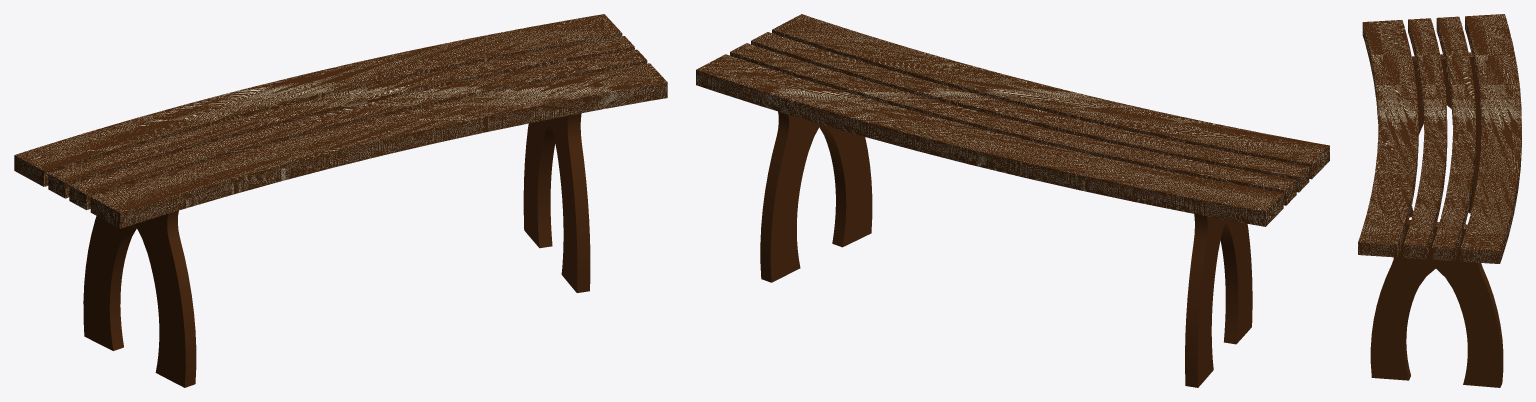
The picture shows the model from 3 angles, left to right: view 1: azimuth 30°, elevation 25°; view 2: azimuth 150°, elevation 25°; view 3: azimuth 270°, elevation 25°; orthographic projection. The views are drawn at different scales.
Visible parts, largest first — view 1: mesh3_mesh3-geometry, mesh2_mesh2-geometry, mesh5_mesh5-geometry, mesh4_mesh4-geometry, mesh1_mesh1-geometry, mesh6_mesh6-geometry; view 2: mesh2_mesh2-geometry, mesh3_mesh3-geometry, mesh6_mesh6-geometry, mesh4_mesh4-geometry, mesh1_mesh1-geometry, mesh5_mesh5-geometry; view 3: mesh2_mesh2-geometry, mesh3_mesh3-geometry, mesh4_mesh4-geometry, mesh1_mesh1-geometry, mesh6_mesh6-geometry, mesh5_mesh5-geometry.
Boxes of the visible parts, x1,y1,x2,y2 form: mesh3_mesh3-geometry: (90,63,667,228); mesh2_mesh2-geometry: (14,14,622,186); mesh5_mesh5-geometry: (135,113,590,387); mesh4_mesh4-geometry: (48,36,634,198); mesh1_mesh1-geometry: (69,49,647,210); mesh6_mesh6-geometry: (83,119,555,350); mesh2_mesh2-geometry: (696,54,1283,226); mesh3_mesh3-geometry: (772,14,1329,179); mesh6_mesh6-geometry: (760,111,1224,387); mesh4_mesh4-geometry: (730,43,1296,205); mesh1_mesh1-geometry: (751,32,1309,192); mesh5_mesh5-geometry: (819,124,1252,344); mesh2_mesh2-geometry: (1460,14,1521,263); mesh3_mesh3-geometry: (1358,20,1418,257); mesh4_mesh4-geometry: (1432,16,1475,261); mesh1_mesh1-geometry: (1403,18,1447,259); mesh6_mesh6-geometry: (1436,52,1503,387); mesh5_mesh5-geometry: (1370,56,1441,380).
Bounding box in the file's own units: 0.917 × 0.2956 × 0.2679.
